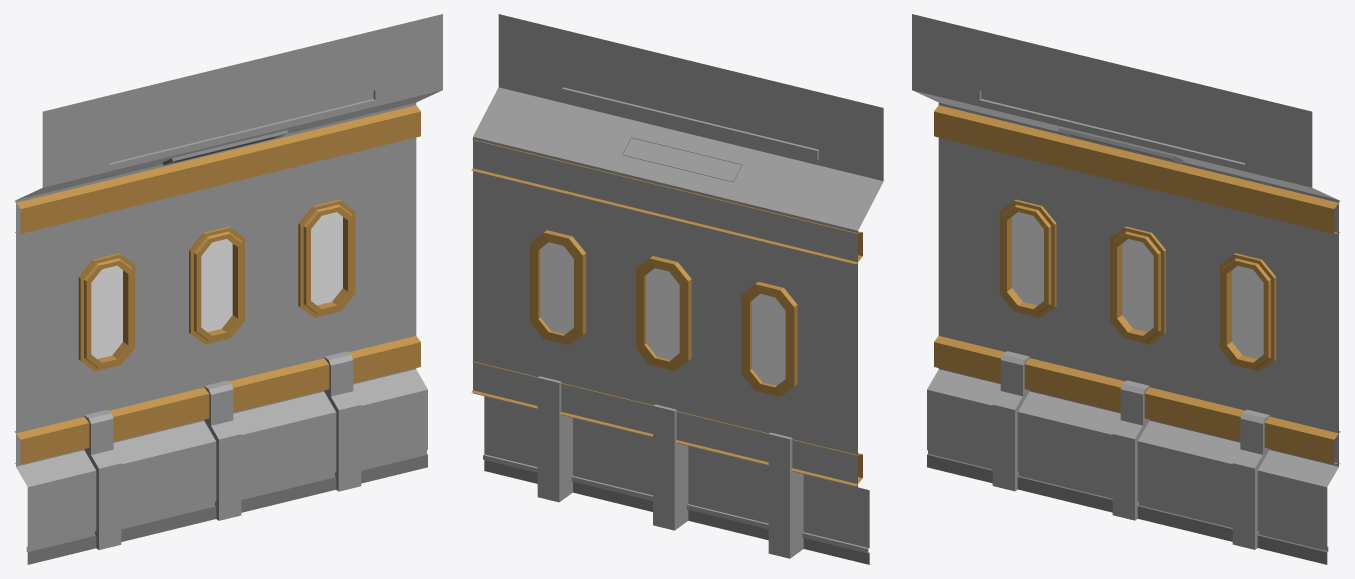
Rendered from ThreeWindows_Wall_SideB.glb.
3 views of the same model, side by side, from view 1: azimuth 30°, elevation 25°; view 2: azimuth 150°, elevation 25°; view 3: azimuth 330°, elevation 25° (orthographic). The views are drawn at different scales.
Parts seen in each view (by area): view 1: ThreeWindows_Wall_SideB; view 2: ThreeWindows_Wall_SideB; view 3: ThreeWindows_Wall_SideB.
Part boxes in pixels (box(x1,y1,x2,y2)): ThreeWindows_Wall_SideB: box(14, 14, 442, 564); ThreeWindows_Wall_SideB: box(471, 14, 883, 564); ThreeWindows_Wall_SideB: box(912, 14, 1340, 564).
Size of the model in its own units: 4 by 4.43 by 0.526.
